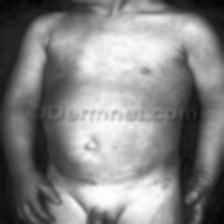Non-Cancerous Skin Condition: (72, 0, 148, 52), (54, 150, 170, 184), (7, 157, 51, 211), (196, 66, 224, 117), (136, 214, 183, 224), (58, 208, 86, 224), (11, 74, 25, 97)
